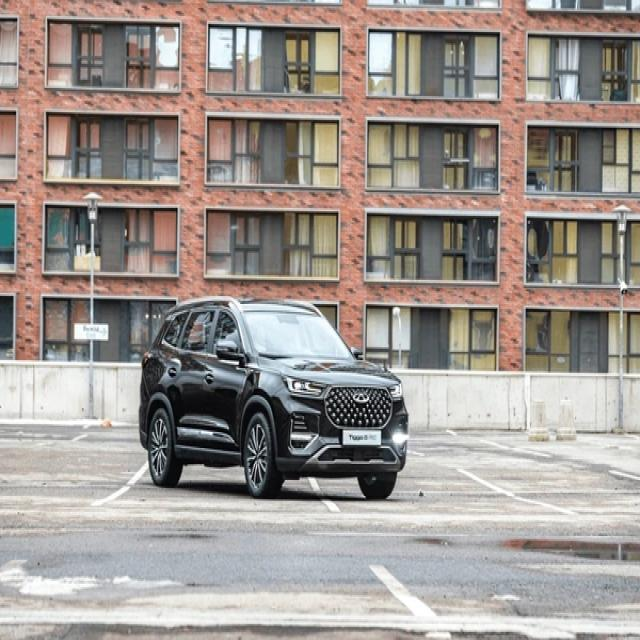cherry: (349, 390, 371, 406)
